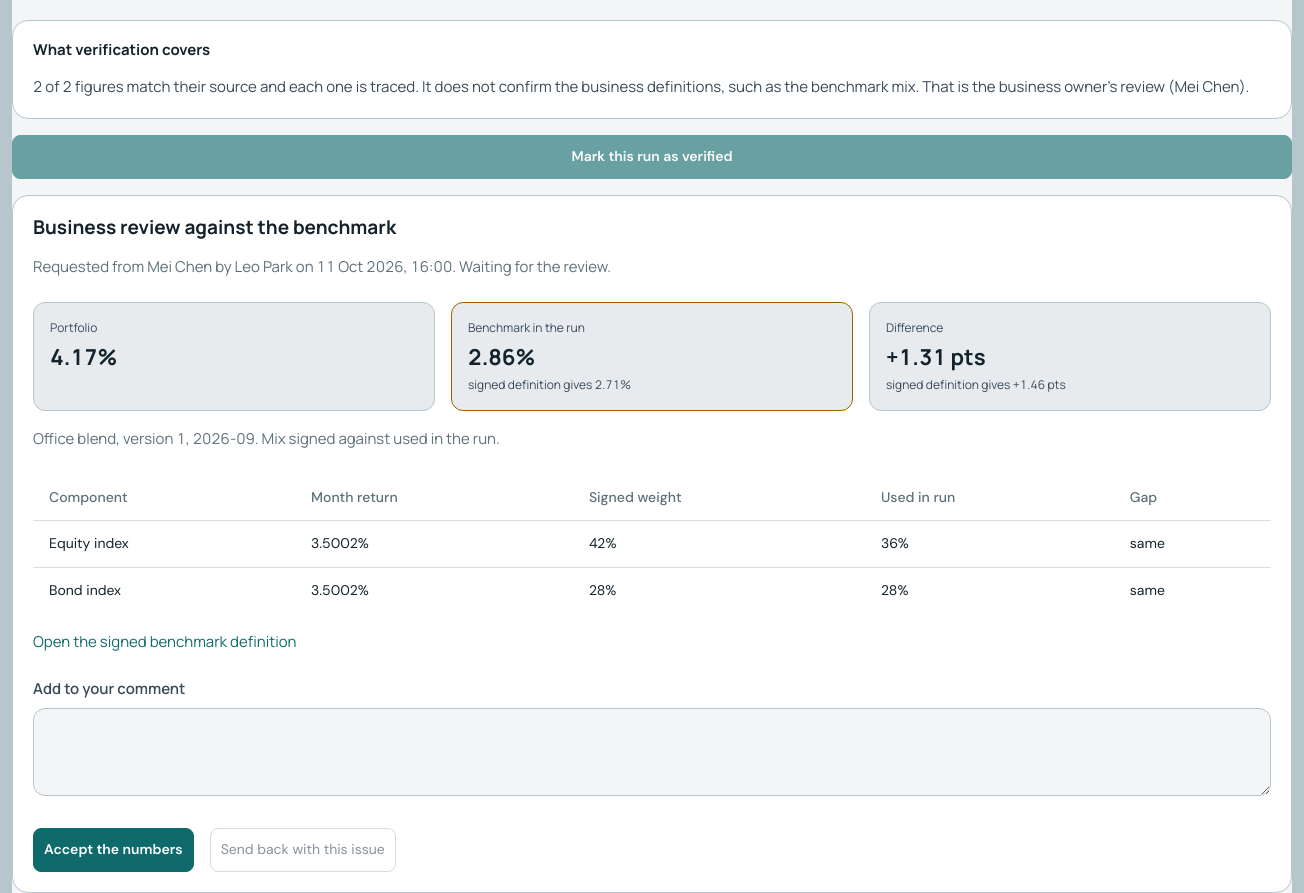
VerifyPanel › lets the owner accept once the mix is the signed one, and says who and when
(page scrolled)
Step 1. Click the button "Accept the numbers" → (113, 850), box x1=33 y1=828 x2=194 y2=872
(page scrolled)
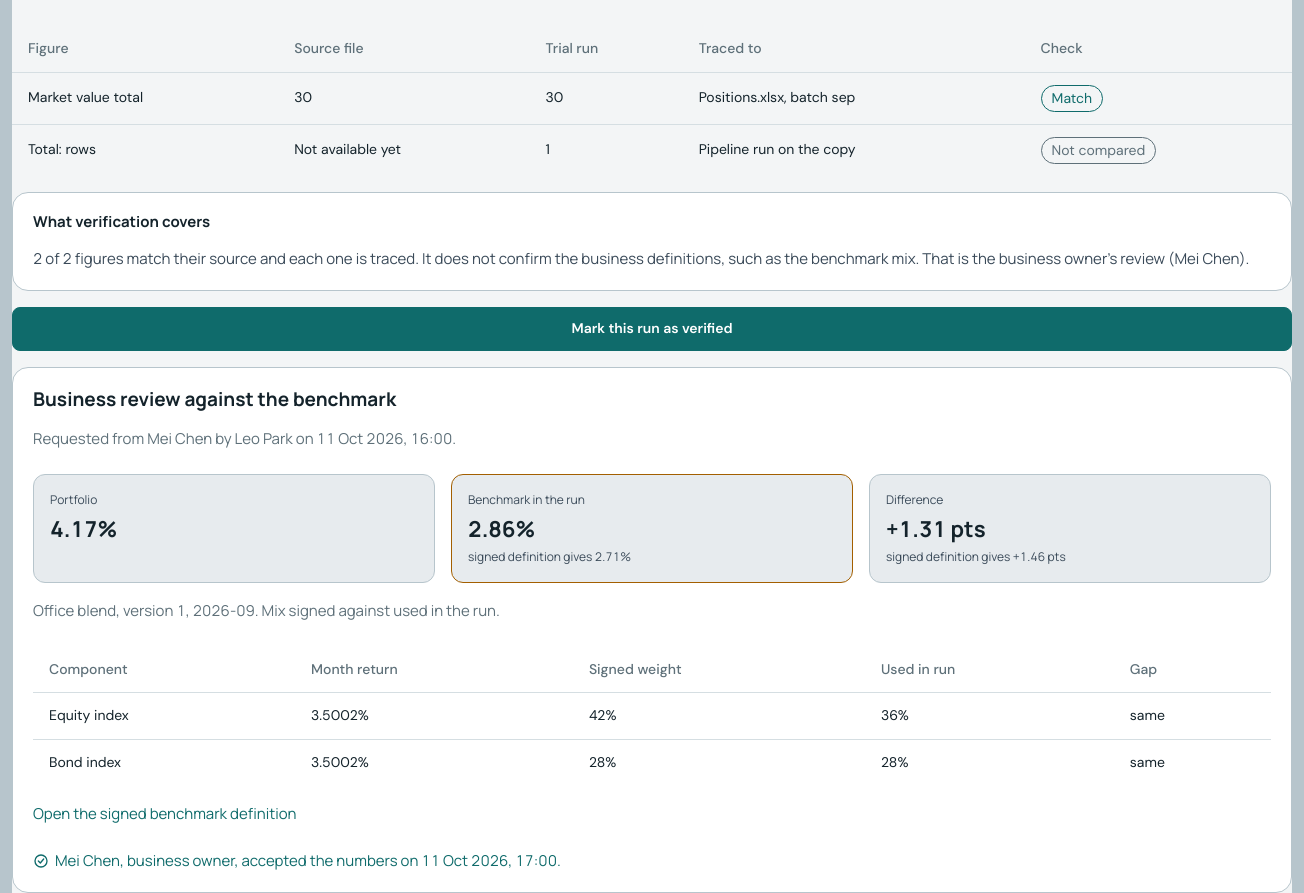
Check: the text "Mei Chen, business owner, accepted the numbers on" is shown, box x1=33 y1=850 x2=561 y2=871
